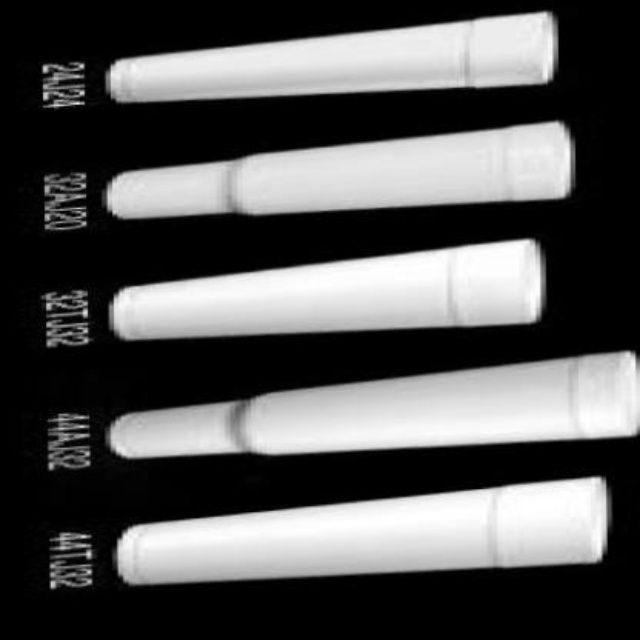trash: (0, 0, 638, 638), (112, 474, 609, 586), (103, 118, 575, 220), (108, 237, 546, 343), (105, 9, 558, 105), (111, 238, 543, 338)
